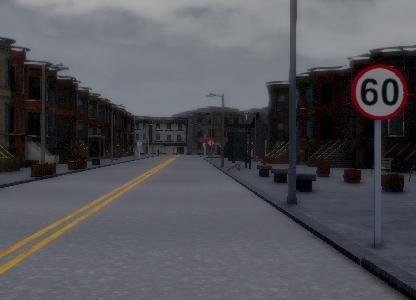Speed_60: (350, 63, 406, 121)
